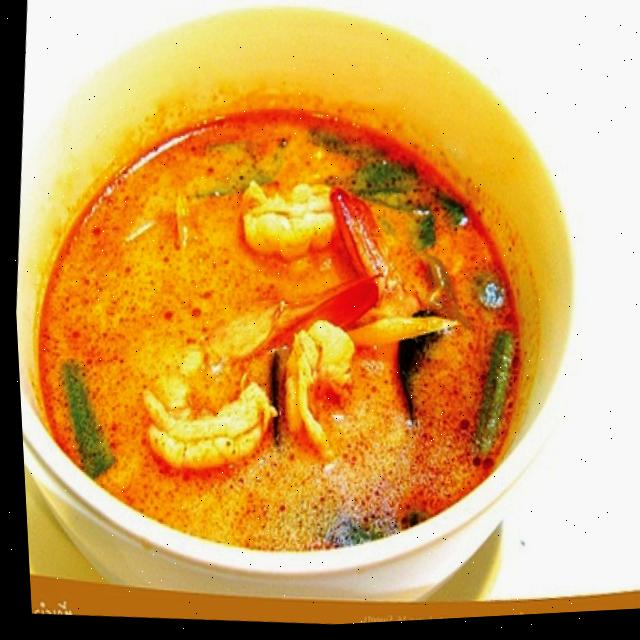汤锅炖物: (2, 28, 570, 582)
